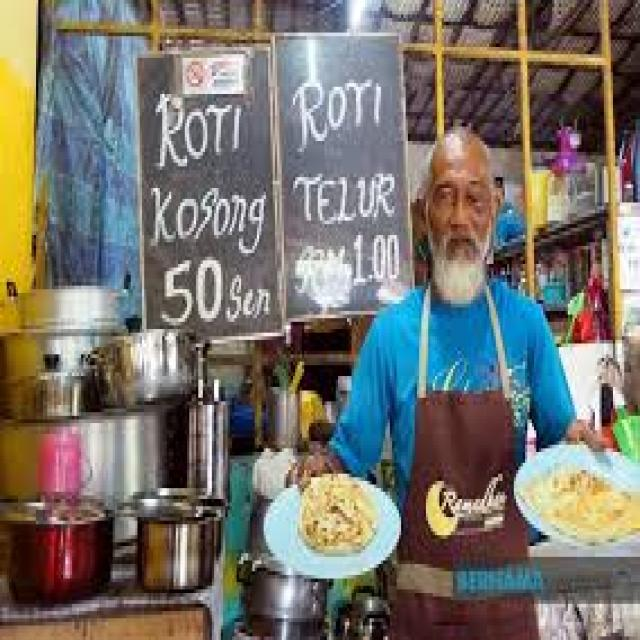Paratha: (535, 446, 634, 550), (313, 476, 377, 563)
